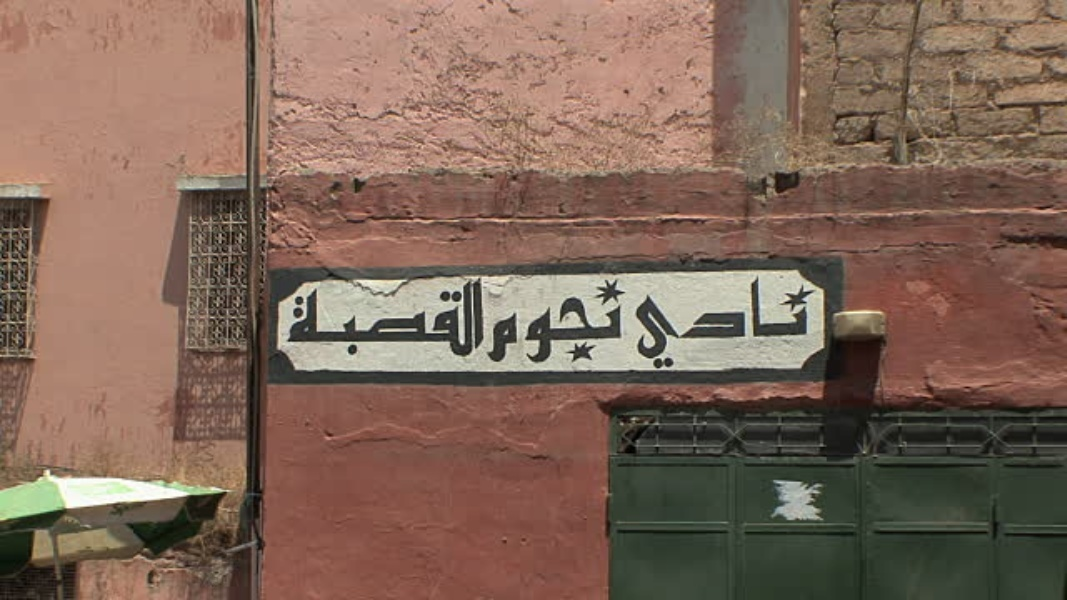text: (801, 274, 817, 371), (641, 274, 656, 371), (657, 274, 672, 371), (673, 274, 688, 371), (689, 274, 704, 371), (705, 274, 720, 371), (721, 274, 736, 371), (737, 274, 752, 371), (753, 274, 768, 371), (769, 274, 784, 371), (785, 274, 800, 371), (497, 276, 512, 369), (513, 276, 528, 369), (529, 276, 544, 369), (545, 276, 560, 369), (561, 276, 576, 369), (577, 276, 592, 369), (593, 276, 608, 369), (609, 276, 624, 369), (305, 274, 320, 359), (321, 274, 336, 359), (337, 274, 352, 359), (353, 274, 368, 359), (369, 274, 384, 359), (385, 274, 400, 359), (401, 274, 416, 359), (417, 274, 432, 359), (433, 274, 448, 359), (449, 274, 464, 359), (465, 274, 480, 359), (297, 274, 304, 359), (634, 274, 640, 371), (491, 276, 496, 369), (481, 274, 486, 359), (625, 276, 626, 369)
